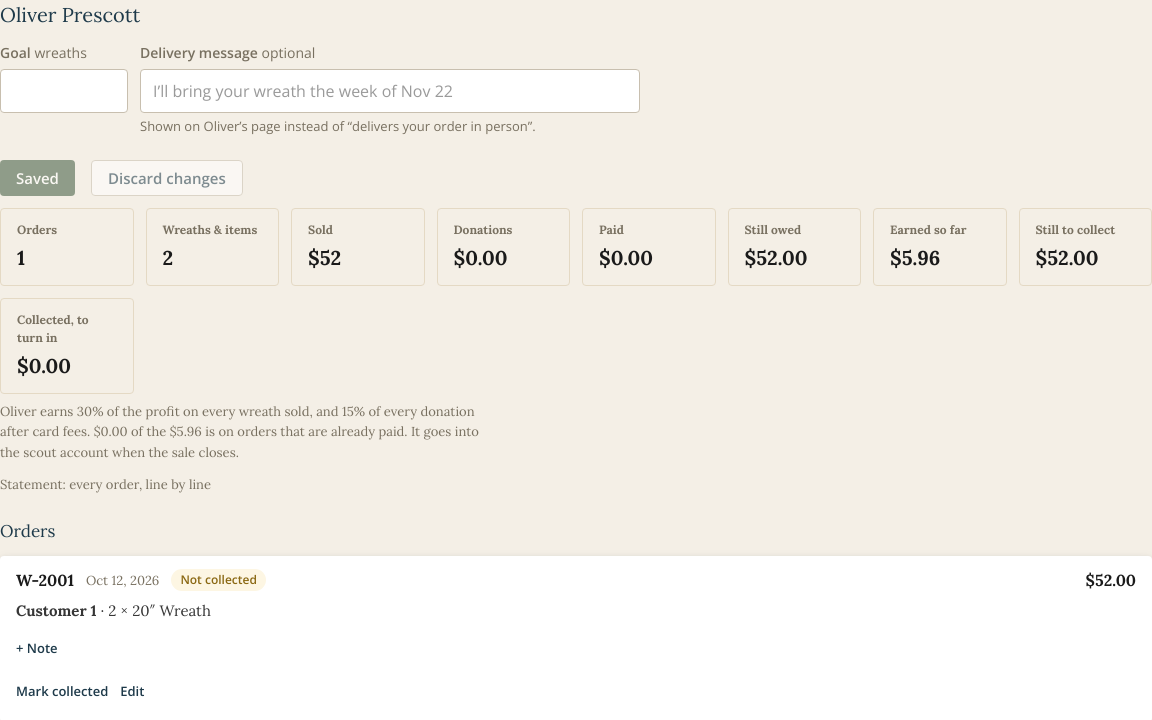
Test: Members › Wreath sale › the open editor › MemberWreaths_Save_IsGreyedAndSaysSaved_UntilTheDraftChanges
Click the button "Edit" at {"x": 132, "y": 692}, box [120,674,144,710]
(page scrolled)
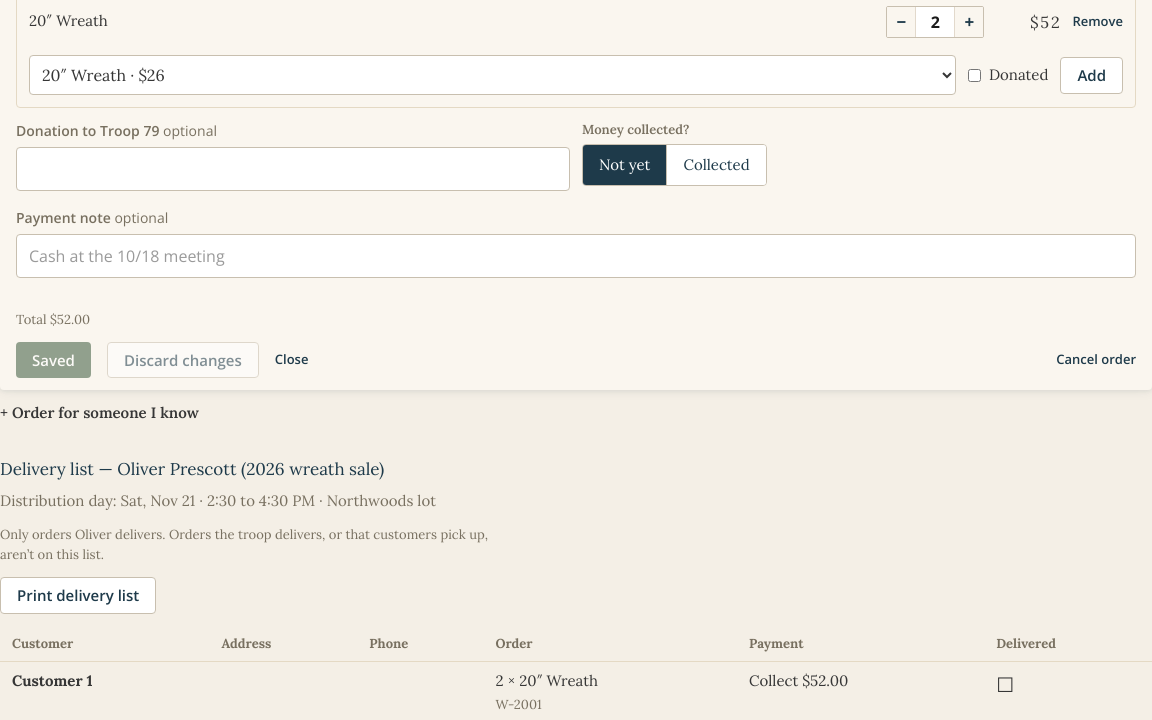
Expected: the button "Saved" is disabled, [16,342,91,378]
